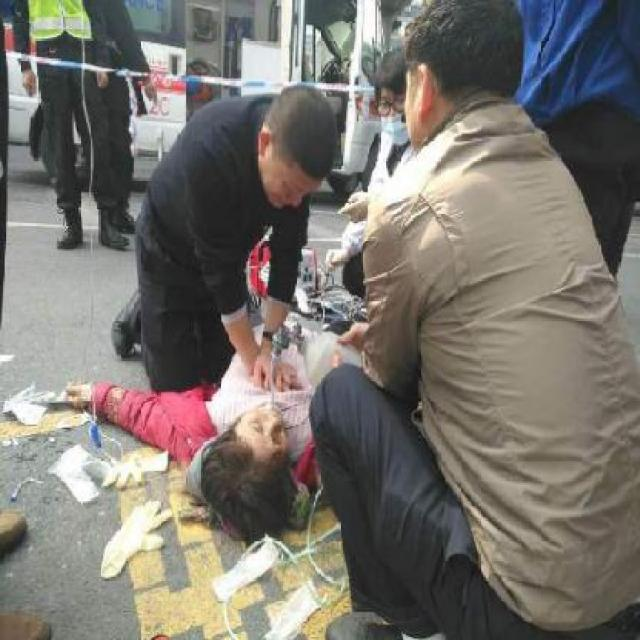fall: (43, 283, 391, 554)
